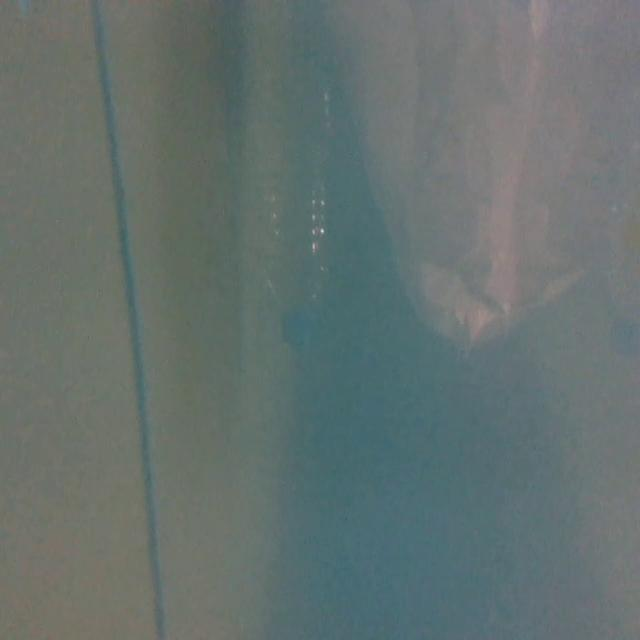plastic bags: (358, 0, 640, 440)
plastic bottle: (255, 80, 352, 378)
